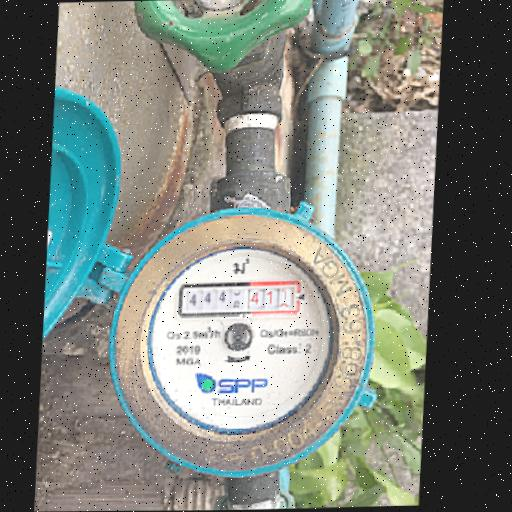1: (264, 290, 278, 309), (279, 289, 293, 308)
4: (217, 290, 231, 309), (249, 290, 263, 309), (187, 291, 200, 310), (202, 292, 215, 310)
5: (231, 291, 245, 310)
border_water_meter_number: (177, 281, 303, 318)
